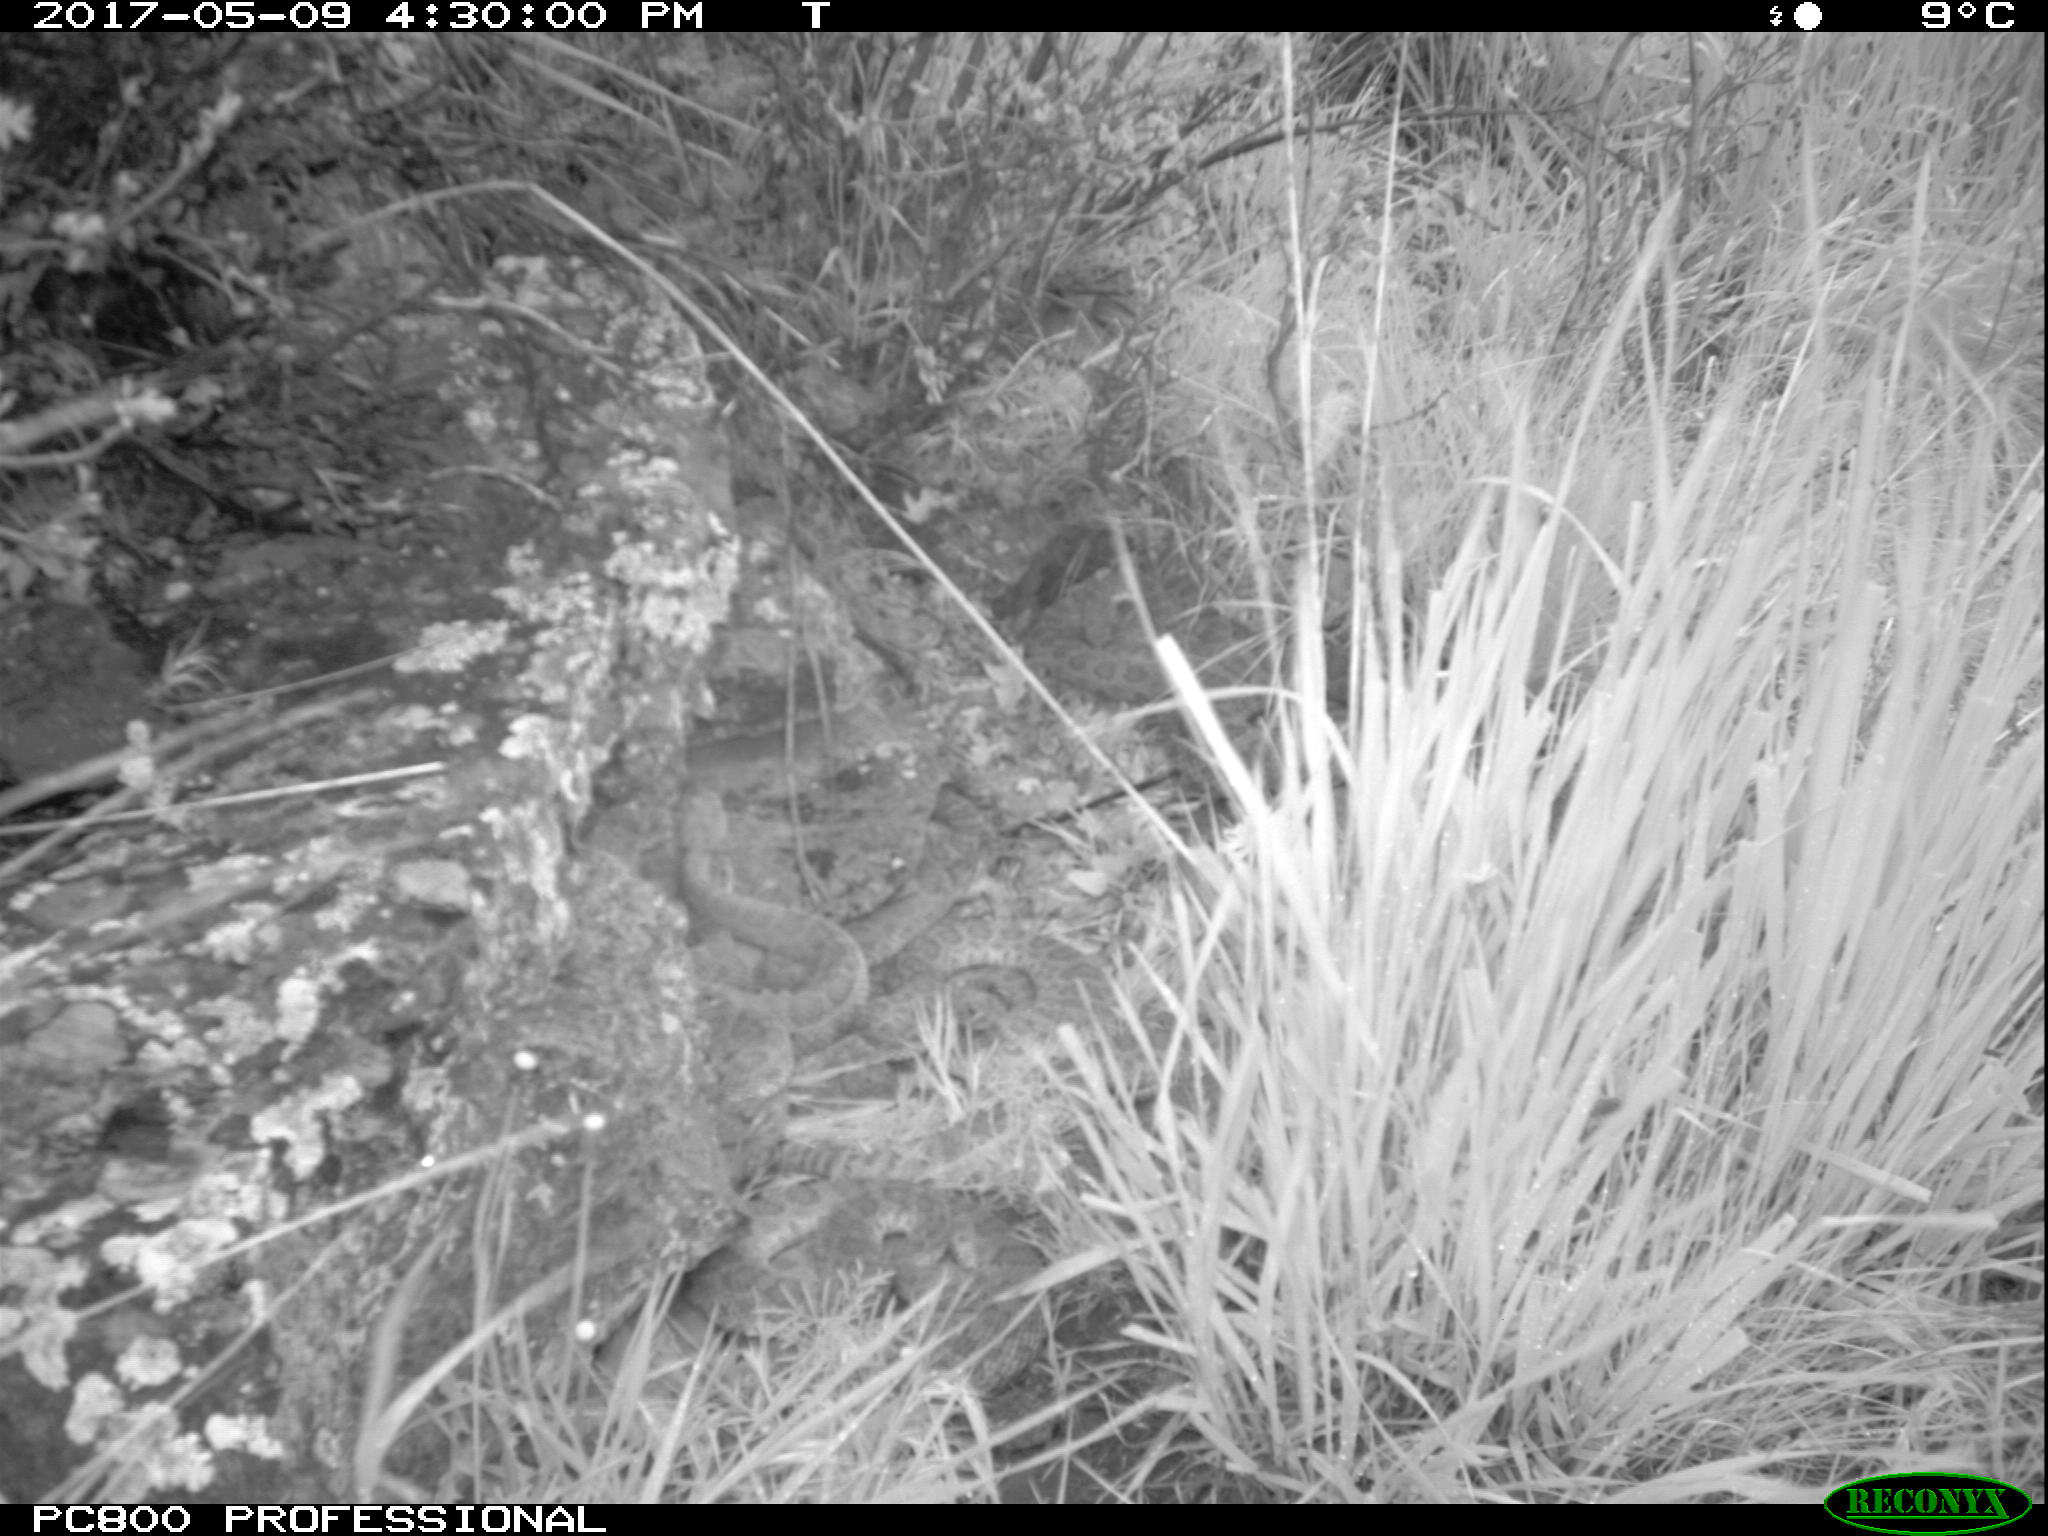snake: (692, 1181, 1047, 1397), (685, 834, 876, 1049), (876, 913, 1130, 1065), (1032, 565, 1222, 705)
